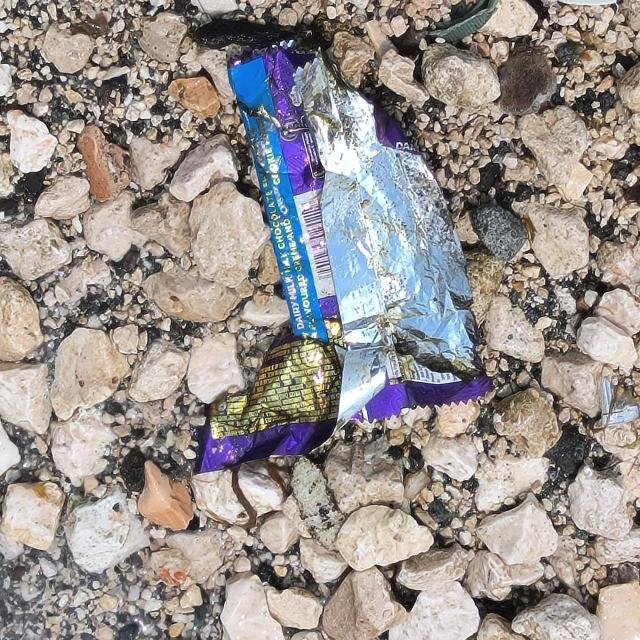plastic_waste: (195, 41, 499, 474)
